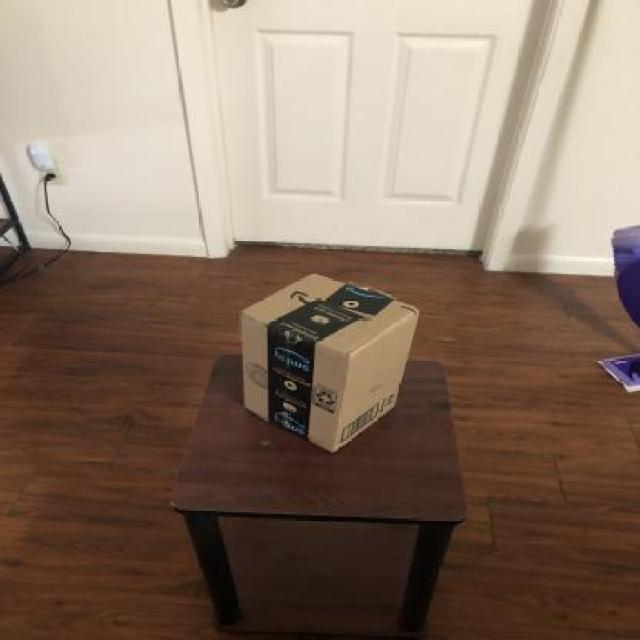cardboxes: (237, 272, 425, 456)
